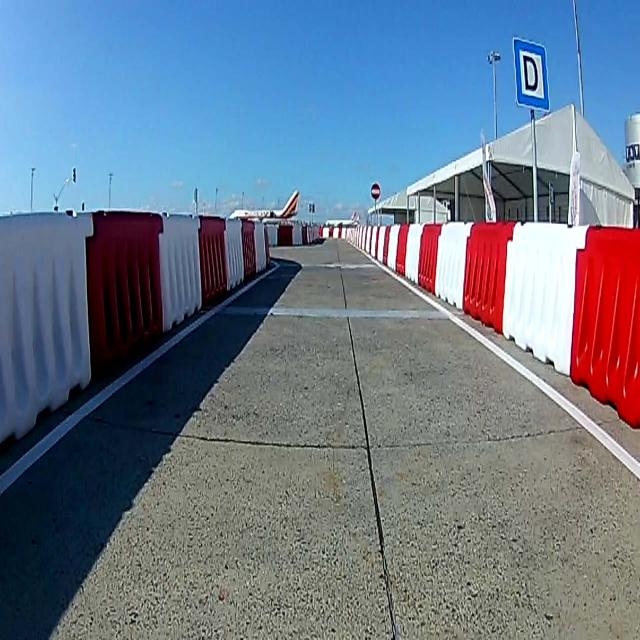durak: (513, 38, 549, 111)
girisyok: (370, 180, 382, 202)
